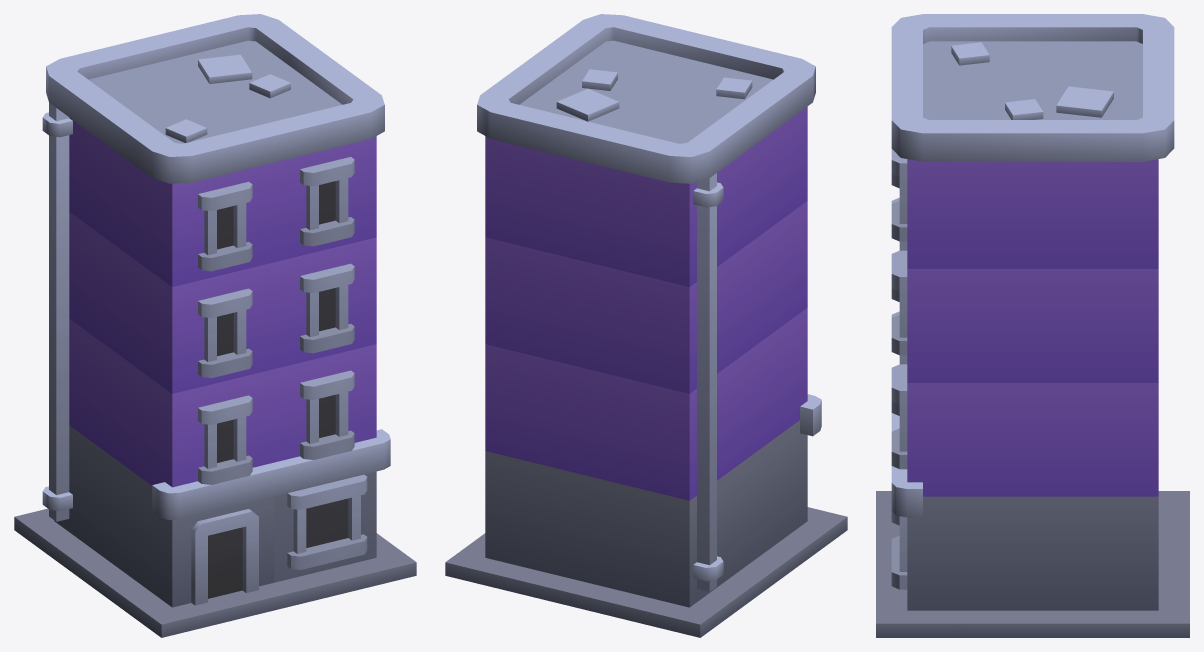
File: ke_building-small-c.glb
3 renders of one model, left to right at view 1: azimuth 30°, elevation 25°; view 2: azimuth 150°, elevation 25°; view 3: azimuth 270°, elevation 25°, orthographic. The views are drawn at different scales.
Visible parts, largest first — view 1: building-small-c; view 2: building-small-c; view 3: building-small-c.
Part boxes in pixels (<box>): building-small-c: <box>14,14,416,637</box>; building-small-c: <box>445,14,847,637</box>; building-small-c: <box>876,14,1189,637</box>.
Size of the model in its own units: 1 by 1.75 by 1.
Materials: 1 (1 with a texture image).
